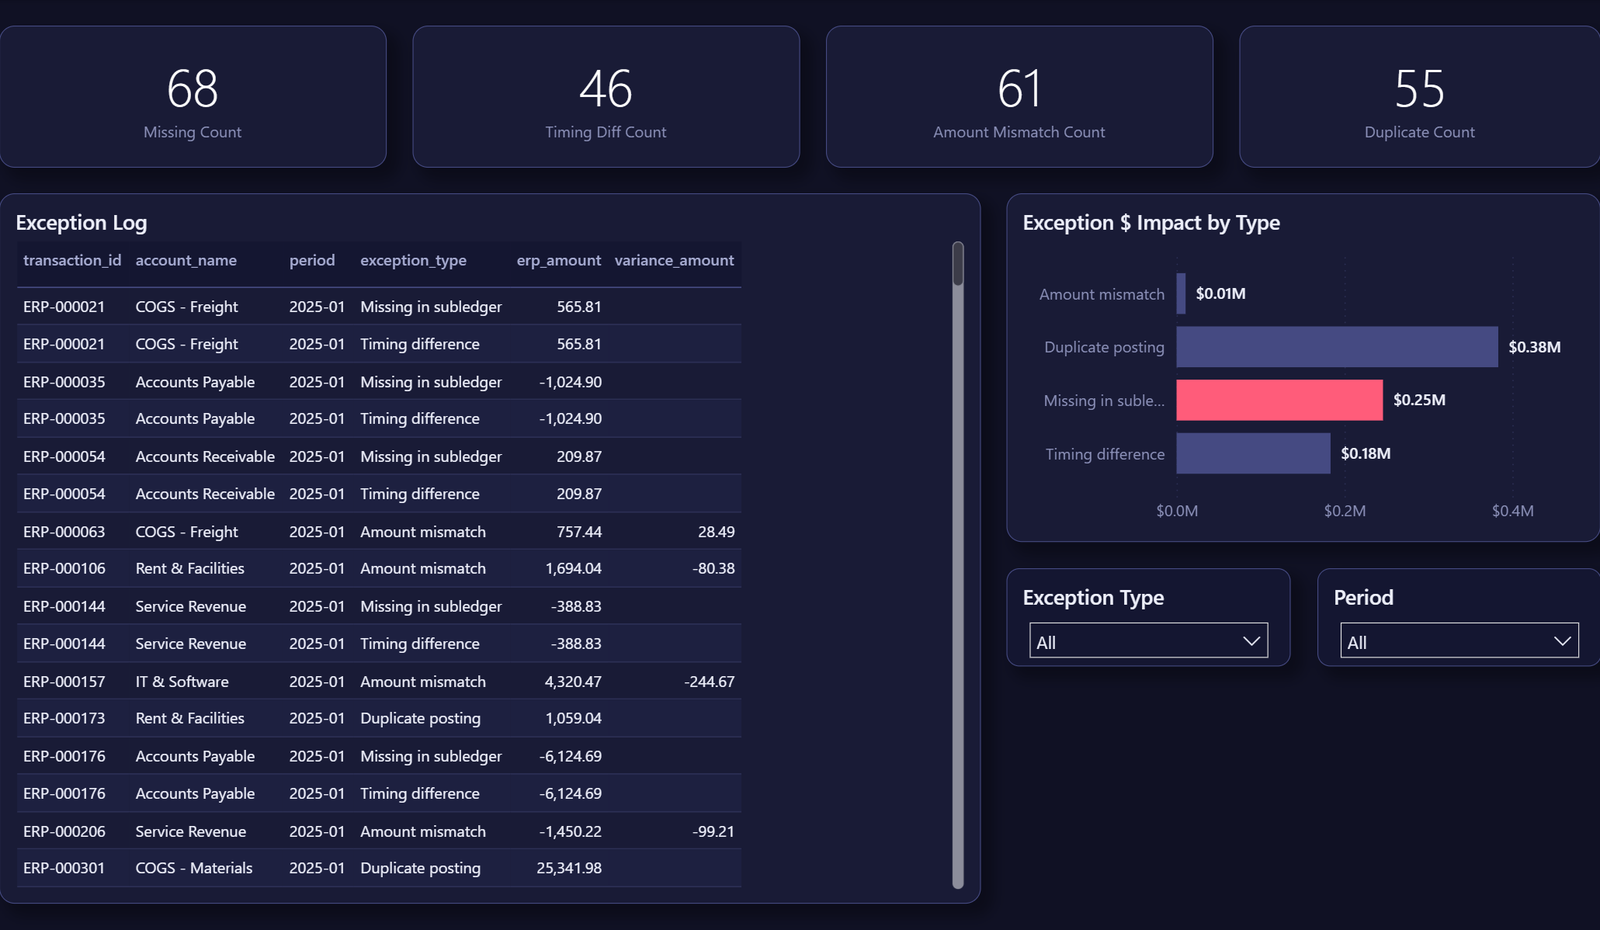

Layout of this report page (visuals, bound fields, positions):
{"tool":"tableau","page":{"name":"GL Close Scorecard","canvas":[1280,800],"ordinal":0},"visuals":[{"type":"parameter","param":"[Parameters].[Parameter 1]","box":[0,0,1280,56]},{"type":"worksheet","title":"KPI Exceptions","mark":"Text","box":[0,56,426.7,112]},{"type":"worksheet","title":"KPI Impact","mark":"Text","box":[426.7,56,426.7,112]},{"type":"worksheet","title":"KPI Out of Tolerance","mark":"Text","box":[853.3,56,426.7,112]},{"type":"worksheet","title":"Variance by Account","mark":"Bar","rows":["account_name"],"cols":["Calculation_absvariance"],"box":[0,168,640,312]},{"type":"worksheet","title":"Impact by Exception Type","mark":"Bar","rows":["exception_type"],"cols":["impact_amount"],"box":[640,168,640,312]},{"type":"worksheet","title":"Variance Trend","mark":"Line","rows":["Calculation_absvariance"],"cols":["period"],"box":[0,480,640,320]},{"type":"worksheet","title":"Impact Matrix","mark":"Text","rows":["account_name"],"cols":["exception_type"],"box":[640,480,640,320]}]}

Visuals, with their boxes on the page's 1280x800 design canvas (x1, y1, x2, y2). These are canvas units, not pixel positions in the 1600x930 screenshot, which may show the page scaled, cropped or inside an application window:
parameter: <box>0,0,1280,56</box>
"KPI Exceptions" worksheet (Text marks): <box>0,56,427,168</box>
"KPI Impact" worksheet (Text marks): <box>427,56,853,168</box>
"KPI Out of Tolerance" worksheet (Text marks): <box>853,56,1280,168</box>
"Variance by Account" worksheet (Bar marks): <box>0,168,640,480</box>
"Impact by Exception Type" worksheet (Bar marks): <box>640,168,1280,480</box>
"Variance Trend" worksheet (Line marks): <box>0,480,640,800</box>
"Impact Matrix" worksheet (Text marks): <box>640,480,1280,800</box>
